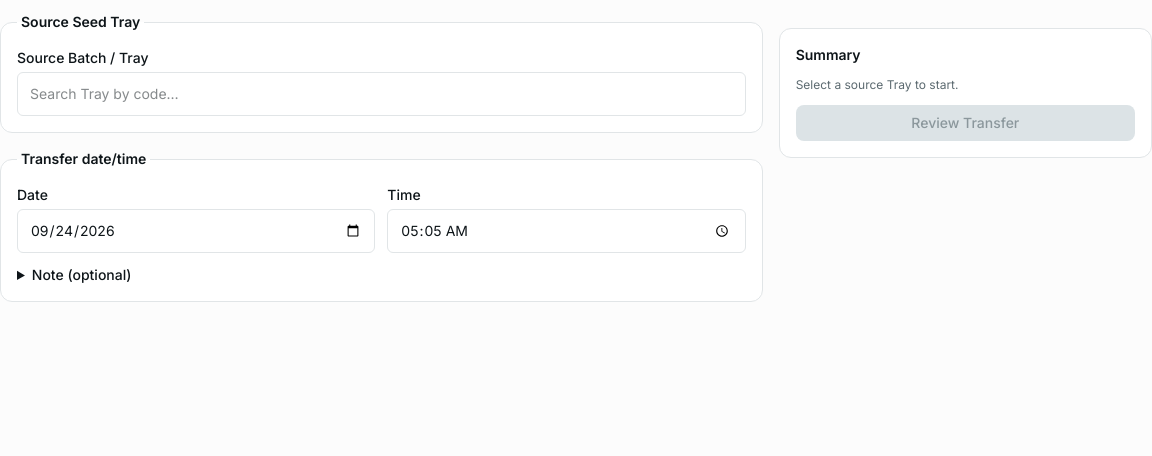
Test: IntervinesTransplantForm › PILOT-BLOCKER-008 A10: shows 'not configured (effective: 1)' for a null-capacity Table, never 'unlimited'
Focus the dropdown labelled "Source Batch / Tray" at (381, 94), box [17, 72, 746, 116]
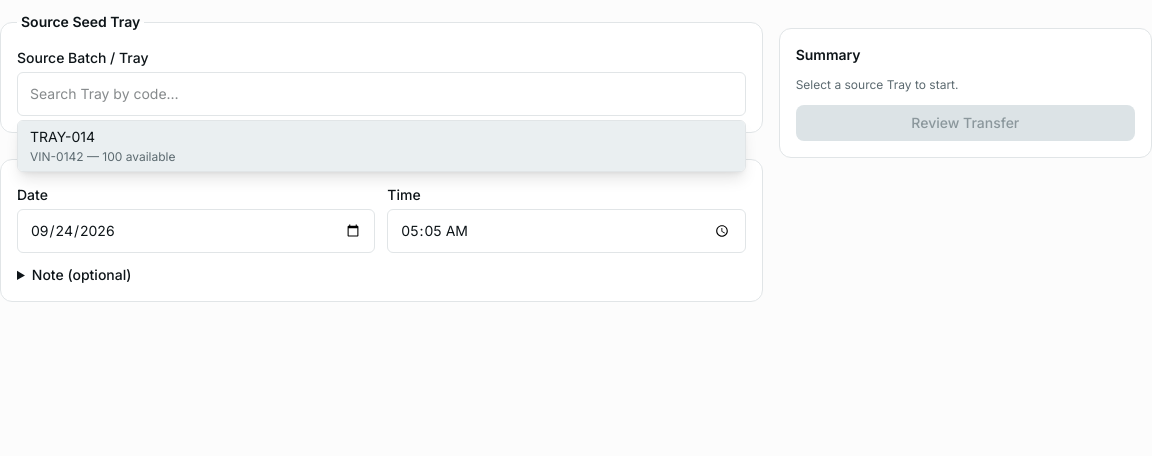
Click the text "TRAY-014" at (63, 137), box [30, 127, 95, 147]
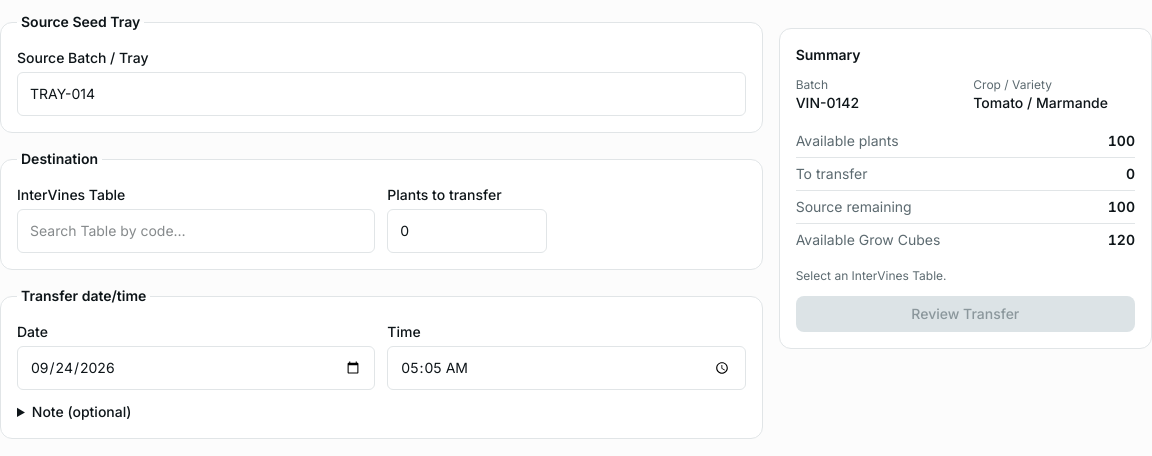
Expected: the dropdown labelled "InterVines Table" is shown
Focus the dropdown labelled "InterVines Table" at (196, 231), box [17, 209, 375, 253]
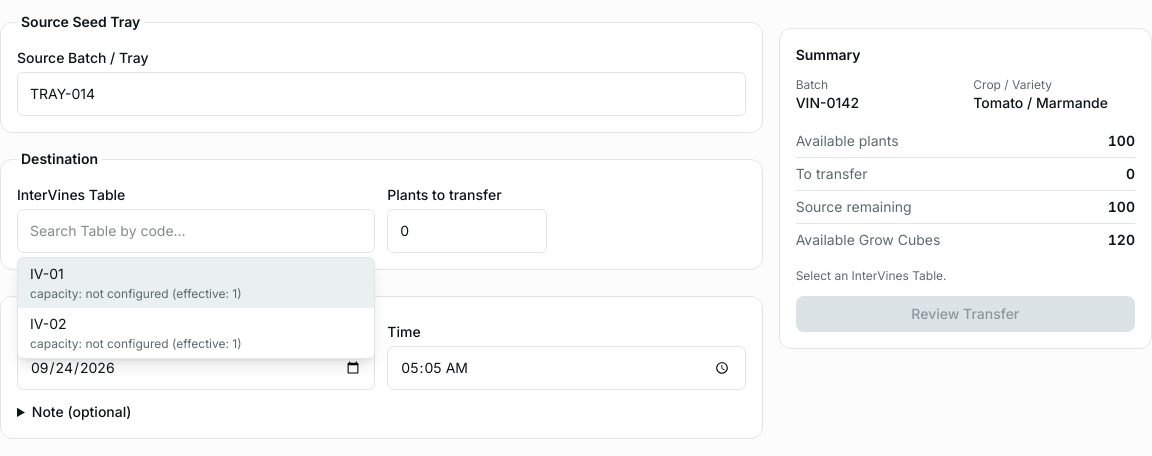
Expected: the 1st text "capacity: not configured (effective: 1)" is shown, [30, 286, 242, 302]
